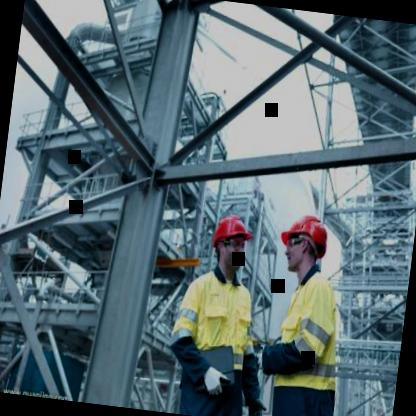helmet: (274, 204, 335, 278), (205, 204, 258, 276)
